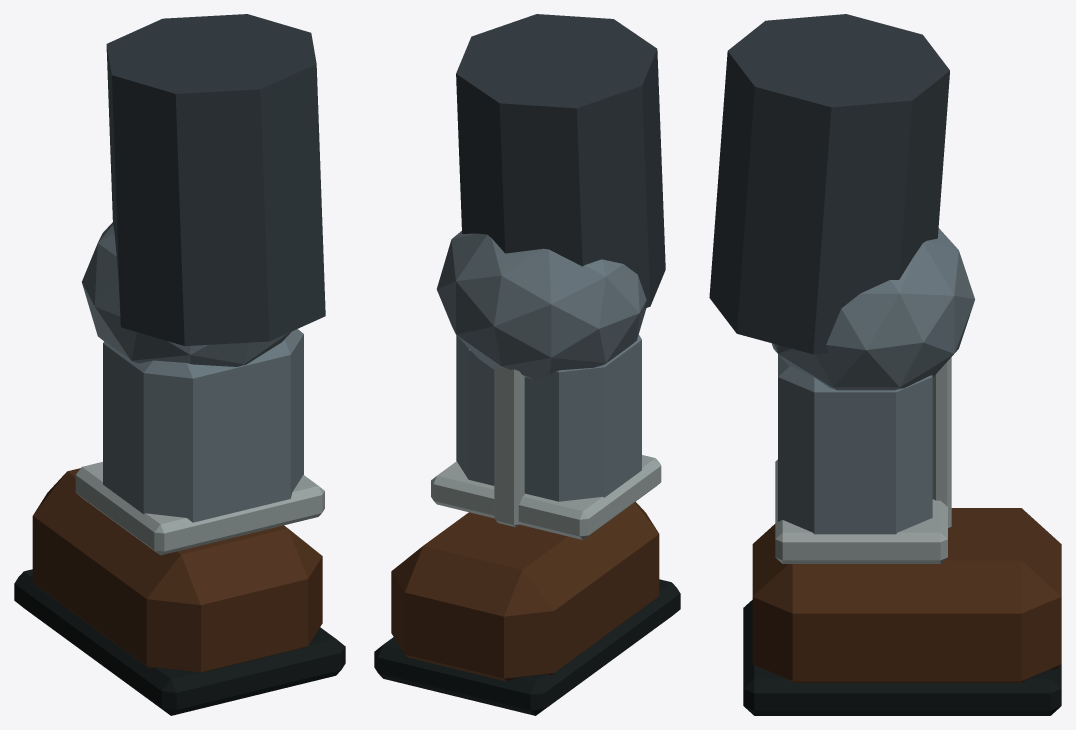
Rendered from LegLeft.glb.
The picture shows the model from 3 angles, left to right: view 1: azimuth 30°, elevation 25°; view 2: azimuth 150°, elevation 25°; view 3: azimuth 270°, elevation 25°; orthographic projection. The views are drawn at different scales.
Parts seen in each view (by area): view 1: Sculpture; view 2: Sculpture; view 3: Sculpture.
Boxes of the visible parts, x1,y1,x2,y2 form: Sculpture: (14, 14, 345, 715); Sculpture: (374, 14, 680, 715); Sculpture: (709, 14, 1061, 715).
Size of the model in its own units: 0.264 by 0.7547 by 0.3875.
